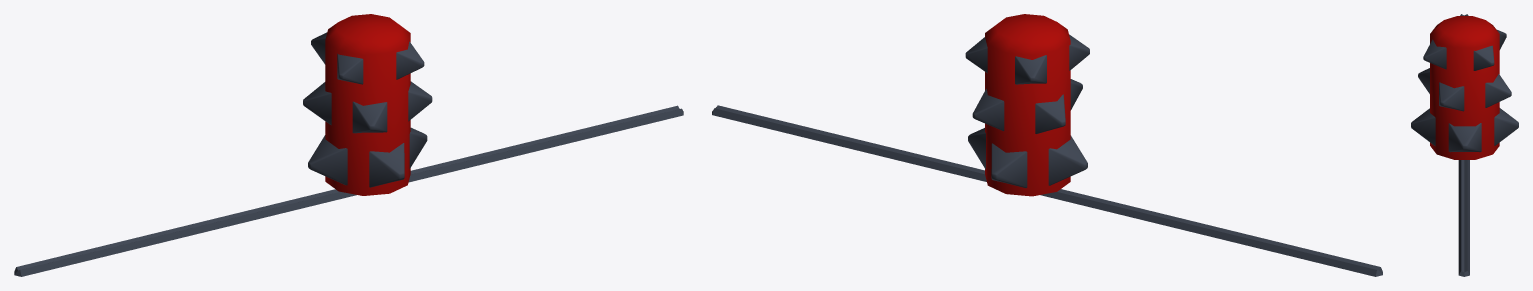
Rendered from mold.fbx.
3 renders of one model, left to right at view 1: azimuth 30°, elevation 25°; view 2: azimuth 150°, elevation 25°; view 3: azimuth 270°, elevation 25°, orthographic. The views are drawn at different scales.
Parts seen in each view (by area): view 1: mold_move, mold_platform; view 2: mold_move, mold_platform; view 3: mold_move, mold_platform.
Part boxes in pixels (bbox=[...]): mold_move: bbox=[303, 14, 432, 195]; mold_platform: bbox=[14, 105, 683, 276]; mold_move: bbox=[965, 14, 1089, 196]; mold_platform: bbox=[712, 105, 1382, 276]; mold_move: bbox=[1411, 16, 1518, 159]; mold_platform: bbox=[1458, 14, 1469, 276].
Bounding box in the file's own units: 1769 × 414 × 310.
